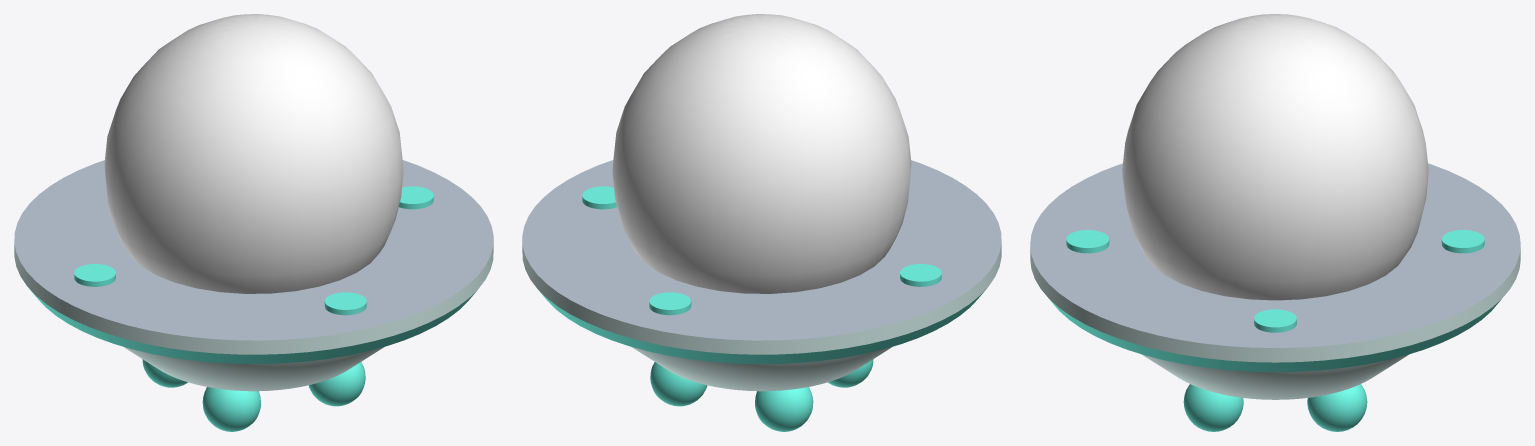
File: ufo-no-alien.glb
3 views of the same model, side by side, from view 1: azimuth 30°, elevation 25°; view 2: azimuth 150°, elevation 25°; view 3: azimuth 270°, elevation 25° (orthographic). The views are drawn at different scales.
Parts seen in each view (by area): view 1: Sphere.024, Circle.013, Roundcube.060, Circle.040, Roundcube.054, Circle.024, Roundcube.062; view 2: Sphere.024, Circle.013, Roundcube.062, Circle.040, Roundcube.061, Circle.024, Roundcube.060; view 3: Sphere.024, Circle.013, Roundcube.054, Roundcube.061, Circle.024, Circle.040.
Part boxes in pixels (x1,y1,x2,y2): Sphere.024: (104, 14, 403, 293); Circle.013: (14, 160, 493, 391); Roundcube.060: (202, 387, 260, 431); Circle.040: (74, 186, 433, 286); Roundcube.054: (308, 362, 365, 406); Circle.024: (324, 292, 366, 315); Roundcube.062: (142, 359, 187, 387); Sphere.024: (612, 14, 911, 293); Circle.013: (522, 160, 1001, 391); Roundcube.062: (755, 387, 813, 431); Circle.040: (582, 186, 941, 286); Roundcube.061: (650, 362, 707, 406); Circle.024: (649, 292, 691, 315); Roundcube.060: (828, 359, 873, 387); Sphere.024: (1122, 14, 1428, 300); Circle.013: (1030, 163, 1520, 399); Roundcube.054: (1183, 384, 1243, 431); Roundcube.061: (1307, 384, 1367, 431); Circle.024: (1066, 230, 1484, 253); Circle.040: (1254, 309, 1296, 332).
Size of the model in its own units: 3.57 by 3.02 by 3.57.
